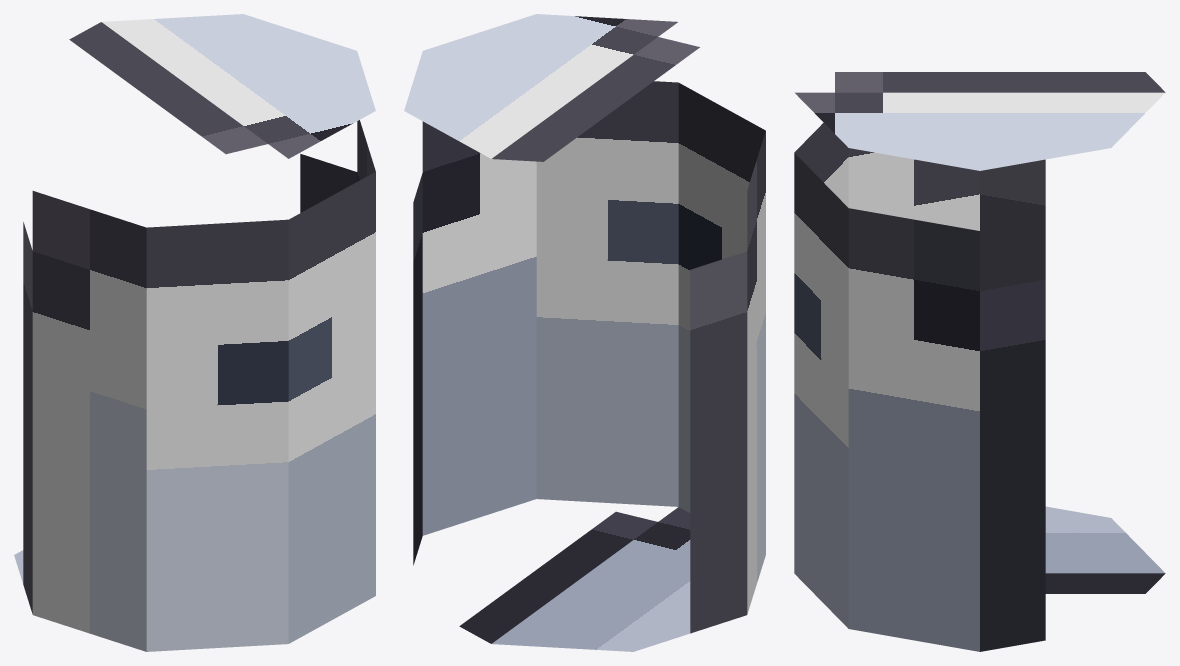
The model's file is wind_gen_pillar.obj.
3 renders of one model, left to right at view 1: azimuth 30°, elevation 25°; view 2: azimuth 150°, elevation 25°; view 3: azimuth 270°, elevation 25°, orthographic.
Visible parts, largest first — view 1: Cylinder; view 2: Cylinder; view 3: Cylinder.
Boxes of the visible parts, x1,y1,x2,y2 form: Cylinder: (14, 14, 375, 651); Cylinder: (404, 14, 765, 651); Cylinder: (794, 72, 1165, 651).
Bounding box in the file's own units: 0.7 × 1 × 0.7.
